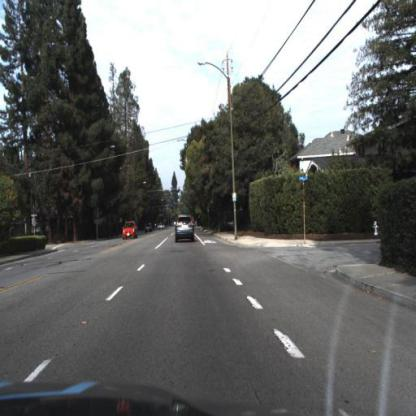car: (175, 211, 196, 244), (123, 220, 137, 241), (145, 223, 154, 234)
